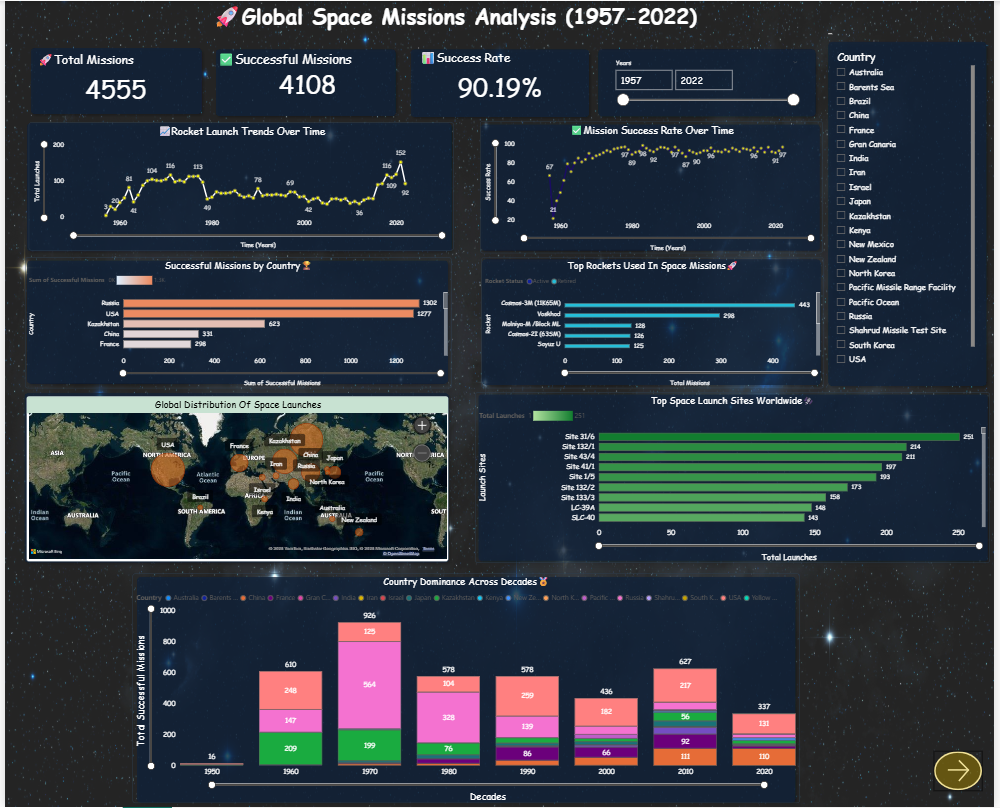

The page's visual inventory and layout, read from the dashboard file:
{"tool":"powerbi","page":{"name":"Space Missions Report","canvas":[2000,1629],"ordinal":0},"visuals":[{"type":"shape","box":[1654.4,73.8,338,714],"z":0,"group":"g17"},{"type":"shape","box":[42.9,85.9,364,151.3],"z":0,"group":"g3"},{"type":"shape","box":[812.1,88.2,378.9,155.4],"z":0,"group":"g5"},{"type":"shape","box":[1190.9,88.2,457.6,153.9],"z":0,"group":"g14"},{"type":"shape","box":[416.9,88.4,382,153.4],"z":0,"group":"g4"},{"type":"group","id":"g1","title":"Group 7","box":[35.4,237.5,876.8,277.5],"z":0,"group":"g8"},{"type":"shape","box":[35.4,237.5,876.8,277.5],"z":0,"group":"g15"},{"type":"shape","box":[952.4,240,703.6,273.4],"z":0,"group":"g16"},{"type":"shape","box":[954.3,513.9,702.5,272.1],"z":0,"group":"g7"},{"type":"shape","box":[30.3,783.2,875.7,361.2],"z":0,"group":"g6"},{"type":"shape","box":[947,786.2,1048.2,355.5],"z":0,"group":"g11"},{"type":"group","id":"g2","title":"Group 8","box":[256.9,1154.6,1349.2,474.8],"z":0},{"type":"shape","box":[256.9,1154.6,1349.2,474.8],"z":0,"group":"g2"},{"type":"textbox","title":"🚀Global Space Missions Analysis (1957-2022)","box":[141.9,0,1535.4,72.1],"z":1000},{"type":"slicer","fields":{"Values":["launches_by_site.country"]},"box":[1665.5,86,305,656.2],"z":1000,"group":"g17"},{"type":"shape","box":[36.3,516.3,869.2,267.2],"z":1000,"group":"g9"},{"type":"group","id":"g3","title":"Group 1","box":[42.9,85.9,363.8,151.6],"z":2000},{"type":"card","title":"📊Success Rate","fields":{"Values":["missions.Successful Rate"]},"box":[835.7,96.2,331.7,126.5],"z":2000,"group":"g5"},{"type":"card","title":"✅Successful Missions","fields":{"Values":["missions.Successful Missions"]},"box":[423.7,97.6,375.1,107],"z":2000,"group":"g4"},{"type":"card","title":"🚀Total Missions","fields":{"Values":["missions.Total Missions"]},"box":[59.7,100.7,328,121.1],"z":2000,"group":"g3"},{"type":"lineChart","title":"📈Rocket Launch Trends Over Time","fields":{"Category":["launches_per_year.launch_year"],"Y":["Sum(launches_per_year.total_launches)"]},"box":[47.4,244,858.8,259.5],"z":2000,"group":"g8"},{"type":"group","id":"g4","title":"Group 2","box":[416.9,88.4,386.5,154.1],"z":3000},{"type":"group","id":"g5","title":"Group 3","box":[812.1,88.2,378.8,155.7],"z":4000},{"type":"clusteredBarChart","title":"Top Rockets Used In Space Missions🚀","fields":{"Category":["missions.Rocket"],"Y":["missions.Total Missions"],"Series":["missions.RocketStatus"]},"box":[962,518.2,692.8,264.6],"z":4000,"group":"g7"},{"type":"map","title":"Global Distribution Of Space Launches","fields":{"Category":["launches_by_country.country"],"Size":["Sum(launches_by_country.No_of_launches)"]},"box":[44.2,797.8,853.9,335],"z":4000,"group":"g6"},{"type":"columnChart","title":"Country Dominance Across Decades🏅","fields":{"Series":["country_dominance_by_decade.country"],"Category":["country_dominance_by_decade.decade"],"Y":["Sum(country_dominance_by_decade.total_successful_missions)"]},"box":[256.9,1158.4,1348.8,464.3],"z":4000,"group":"g2"},{"type":"group","id":"g6","title":"Group 9","box":[30.3,783.2,874.1,361.3],"z":5000},{"type":"group","id":"g7","title":"Group 10","box":[954.3,513.9,702.5,272.1],"z":6000},{"type":"barChart","title":"Successful Missions by Country🏆","fields":{"Category":["successful_missions_by_country.country"],"Y":["Sum(successful_missions_by_country.total_successful_missions)"]},"box":[40.5,518,862.8,265],"z":6000,"group":"g9"},{"type":"group","id":"g8","title":"Group 12","box":[35.4,237.5,876.8,277.5],"z":7000},{"type":"group","id":"g9","title":"Group 6","box":[36.3,516.3,869.2,267.2],"z":8000},{"type":"group","id":"g10","title":"Group 7","box":[952.4,240,703.6,273.4],"z":9000,"group":"g18"},{"type":"group","id":"g11","title":"Group 13","box":[947,786.2,1048.2,355.5],"z":9000},{"type":"group","id":"g12","title":"Group 14","box":[952.4,240,703.6,273.4],"z":10000},{"type":"clusteredBarChart","title":"Top Space Launch Sites Worldwide🛰️","fields":{"Category":["launches_by_site.launch_site"],"Y":["Sum(launches_by_site.No_of_launches)"]},"box":[949.5,791,1040.4,345.1],"z":10000,"group":"g11"},{"type":"group","id":"g13","title":"Group 16","box":[1654.4,73.8,343.6,715],"z":11000},{"type":"group","id":"g14","title":"Group 18","box":[1190.9,88.2,457.6,153.9],"z":12000},{"type":"group","id":"g15","title":"Group 11","box":[35.4,237.5,876.8,277.5],"z":12001,"group":"g1"},{"type":"group","id":"g16","title":"Group 11","box":[952.4,240,703.6,273.4],"z":12001,"group":"g10"},{"type":"group","id":"g17","title":"Group 17","box":[1654.4,73.8,344,714],"z":12004,"group":"g13"},{"type":"lineChart","title":"✅Mission Success Rate Over Time","fields":{"Category":["mission_success_rate.launch_year"],"Y":["Sum(mission_success_rate.success_rate)"]},"box":[959,242.6,692.8,267.2],"z":13000,"group":"g18"},{"type":"actionButton","box":[1875.9,1515.2,98.6,80.4],"z":13000},{"type":"group","id":"g18","title":"Group 15","box":[952.4,240,703.6,273.4],"z":13002,"group":"g12"},{"type":"slicer","fields":{"Values":["missions.launch_year"]},"box":[1217.1,103.2,404.8,127.1],"z":16000,"group":"g14"}]}

Visuals, with their boxes in screenshot pixels (x1, y1, x2, y2), scaled from the page's 2000x1629 canvas onto the 1000x808 screenshot:
shape: (827, 37, 996, 391)
shape: (21, 43, 203, 118)
shape: (406, 44, 596, 121)
shape: (595, 44, 824, 120)
shape: (208, 44, 399, 120)
"Group 7" group: (18, 118, 456, 255)
shape: (18, 118, 456, 255)
shape: (476, 119, 828, 255)
shape: (477, 255, 828, 390)
shape: (15, 388, 453, 568)
shape: (474, 390, 998, 566)
"Group 8" group: (128, 573, 803, 807)
shape: (128, 573, 803, 807)
"🚀Global Space Missions Analysis (1957-2022)" textbox: (71, 0, 839, 36)
slicer - launches_by_site.country: (833, 43, 985, 368)
shape: (18, 256, 453, 389)
"Group 1" group: (21, 43, 203, 118)
"📊Success Rate" card: (418, 48, 584, 110)
"✅Successful Missions" card: (212, 48, 399, 101)
"🚀Total Missions" card: (30, 50, 194, 110)
"📈Rocket Launch Trends Over Time" lineChart: (24, 121, 453, 250)
"Group 2" group: (208, 44, 402, 120)
"Group 3" group: (406, 44, 595, 121)
"Top Rockets Used In Space Missions🚀" clusteredBarChart: (481, 257, 827, 388)
"Global Distribution Of Space Launches" map: (22, 396, 449, 562)
"Country Dominance Across Decades🏅" columnChart: (128, 575, 803, 805)
"Group 9" group: (15, 388, 452, 568)
"Group 10" group: (477, 255, 828, 390)
"Successful Missions by Country🏆" barChart: (20, 257, 452, 388)
"Group 12" group: (18, 118, 456, 255)
"Group 6" group: (18, 256, 453, 389)
"Group 7" group: (476, 119, 828, 255)
"Group 13" group: (474, 390, 998, 566)
"Group 14" group: (476, 119, 828, 255)
"Top Space Launch Sites Worldwide🛰️" clusteredBarChart: (475, 392, 995, 564)
"Group 16" group: (827, 37, 999, 391)
"Group 18" group: (595, 44, 824, 120)
"Group 11" group: (18, 118, 456, 255)
"Group 11" group: (476, 119, 828, 255)
"Group 17" group: (827, 37, 999, 391)
"✅Mission Success Rate Over Time" lineChart: (480, 120, 826, 253)
actionButton: (938, 752, 987, 791)
"Group 15" group: (476, 119, 828, 255)
slicer - missions.launch_year: (609, 51, 811, 114)
